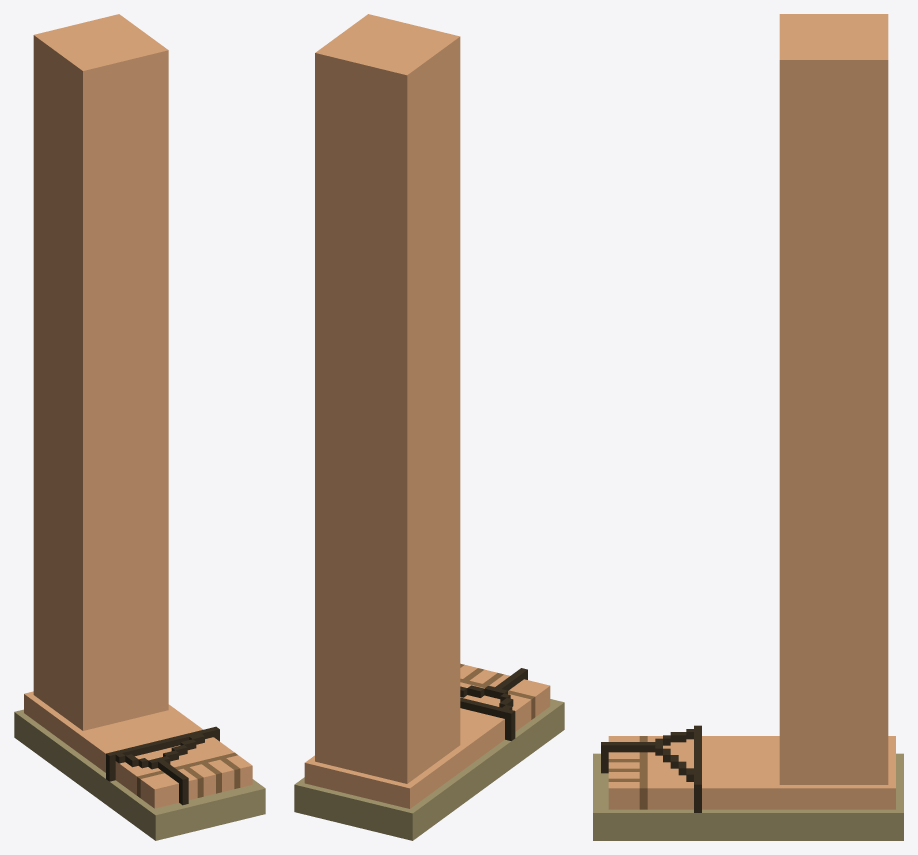
File: LeftLowerLeg.obj
3 views of the same model, side by side, from view 1: azimuth 30°, elevation 25°; view 2: azimuth 150°, elevation 25°; view 3: azimuth 270°, elevation 25° (orthographic). The views are drawn at different scales.
Size of the model in its own units: 1.8 by 11 by 4.
Materials: 1 (1 with a texture image).
